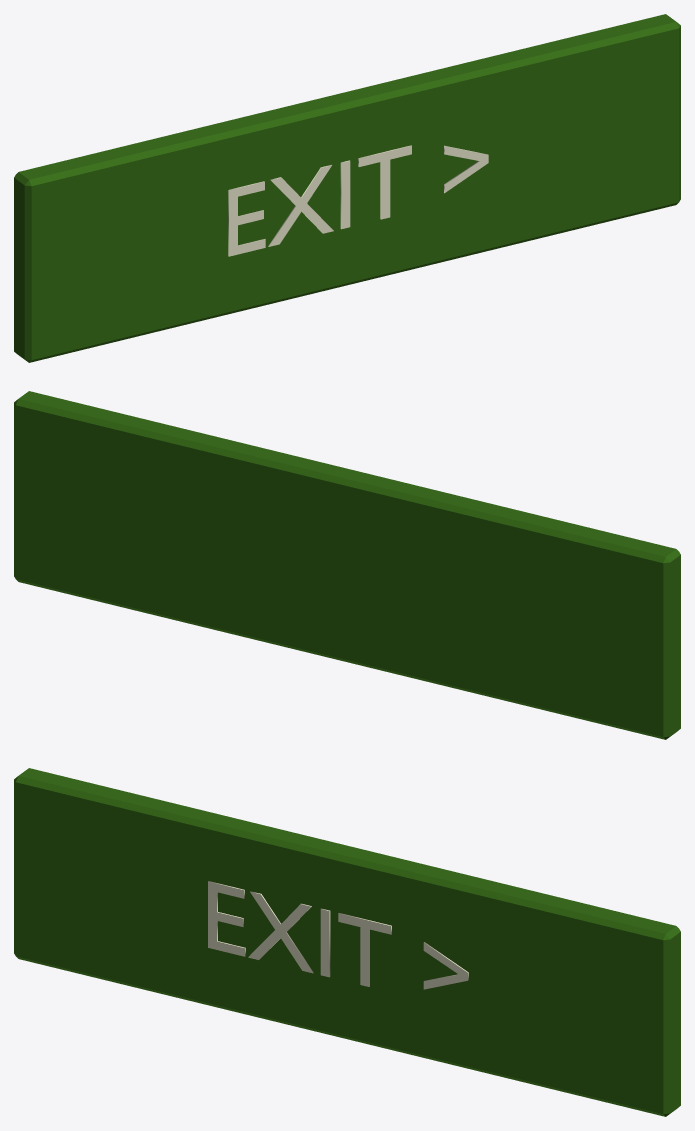
The model's file is ExitArrowSign.fbx.
3 views of the same model, one above another, from view 1: azimuth 30°, elevation 25°; view 2: azimuth 150°, elevation 25°; view 3: azimuth 330°, elevation 25° (orthographic).
Parts seen in each view (by area): view 1: ExitArrowSign; view 2: ExitArrowSign; view 3: ExitArrowSign.
Boxes of the visible parts, x1=… form: ExitArrowSign: x1=14, y1=14, x2=680, y2=362; ExitArrowSign: x1=14, y1=391, x2=680, y2=739; ExitArrowSign: x1=14, y1=768, x2=680, y2=1116.
Bounding box in the file's own units: 120 × 32 × 5.8.
Materials: 1 (1 with a texture image).
